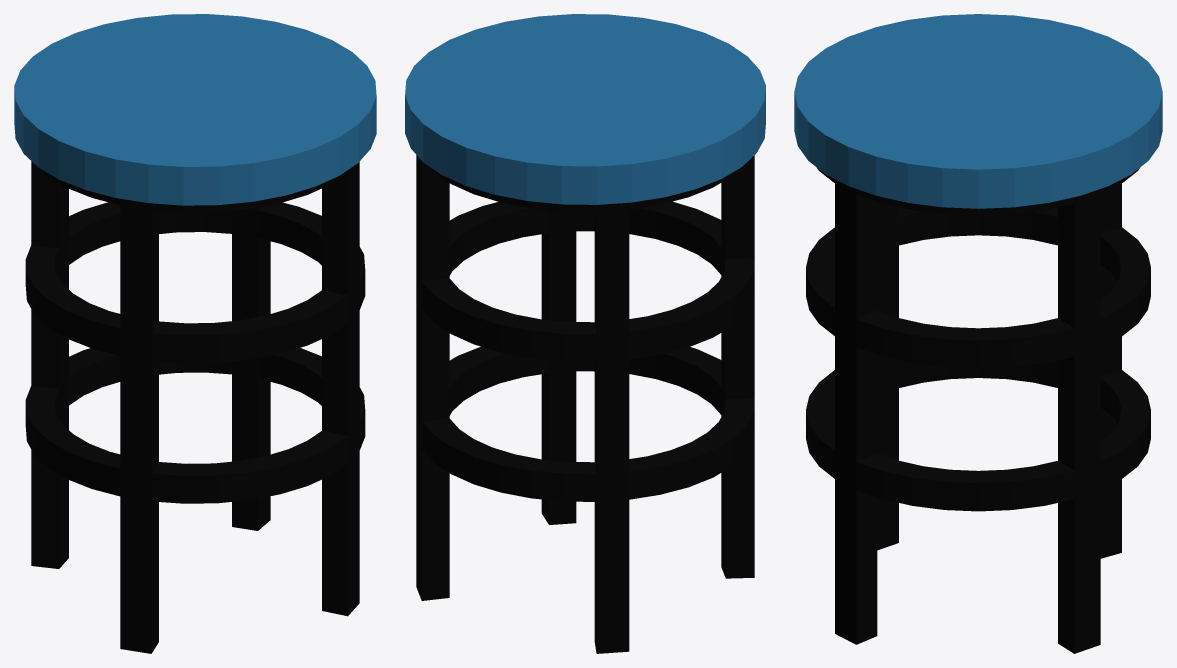
File: chair.glb
The picture shows the model from 3 angles, left to right: view 1: azimuth 30°, elevation 25°; view 2: azimuth 150°, elevation 25°; view 3: azimuth 270°, elevation 25°; orthographic projection.
Parts seen in each view (by area): view 1: Circle, Cylinder.001; view 2: Circle, Cylinder.001; view 3: Circle, Cylinder.001.
Part boxes in pixels (bbox=[...]): Circle: bbox=[25, 161, 365, 653]; Cylinder.001: bbox=[14, 14, 376, 205]; Circle: bbox=[416, 155, 754, 653]; Cylinder.001: bbox=[405, 14, 765, 204]; Circle: bbox=[806, 168, 1150, 653]; Cylinder.001: bbox=[794, 14, 1162, 208].
Bounding box in the file's own units: 1.07 × 1.6 × 1.07.
